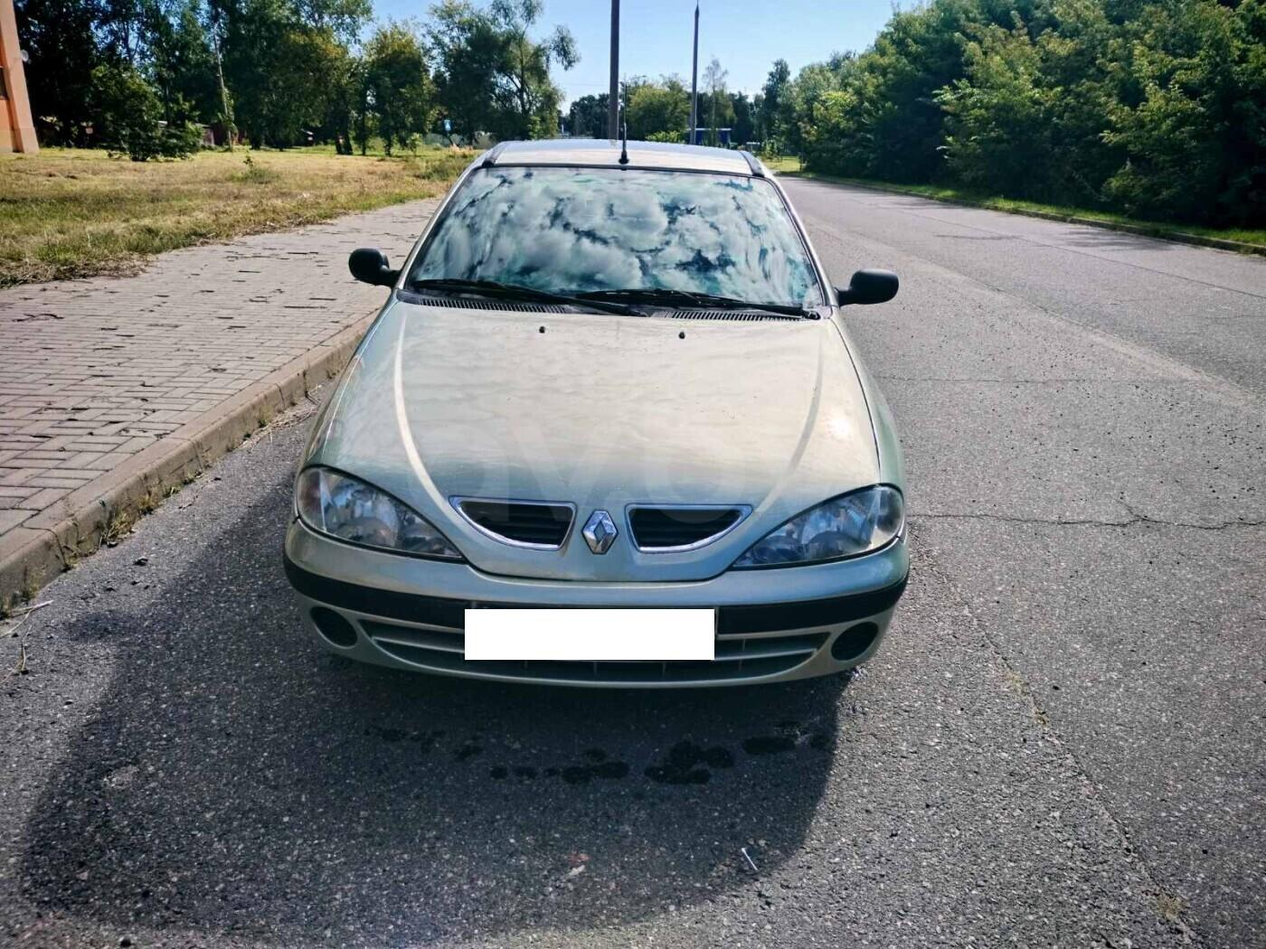Megane_1999-2003: (280, 136, 907, 720)
